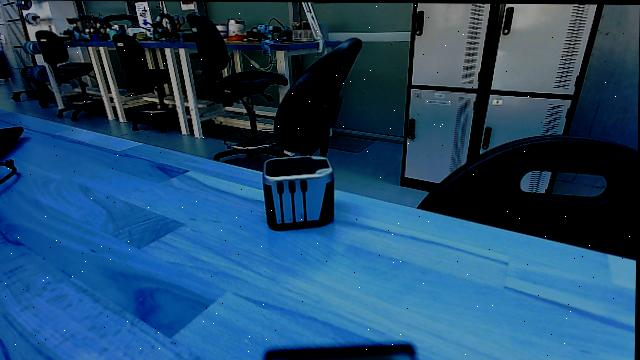adapter: (260, 156, 340, 231)
